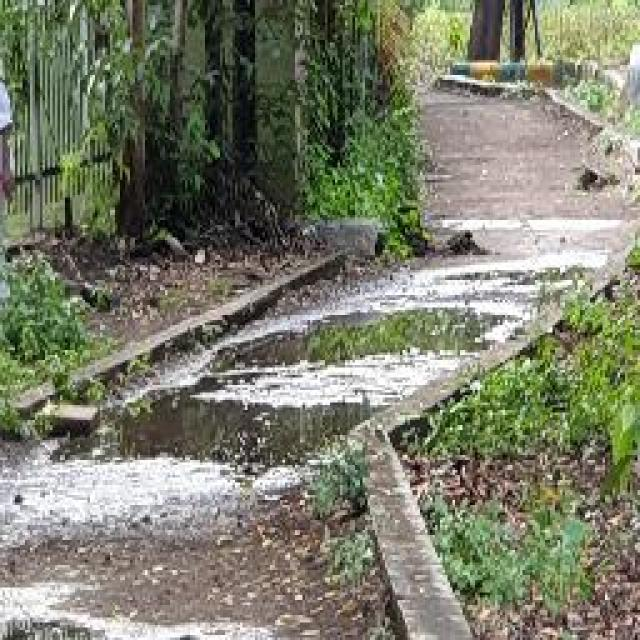puddle: (68, 394, 386, 468), (218, 306, 516, 370)
